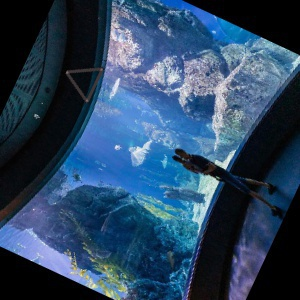triangle: (63, 65, 107, 105)
